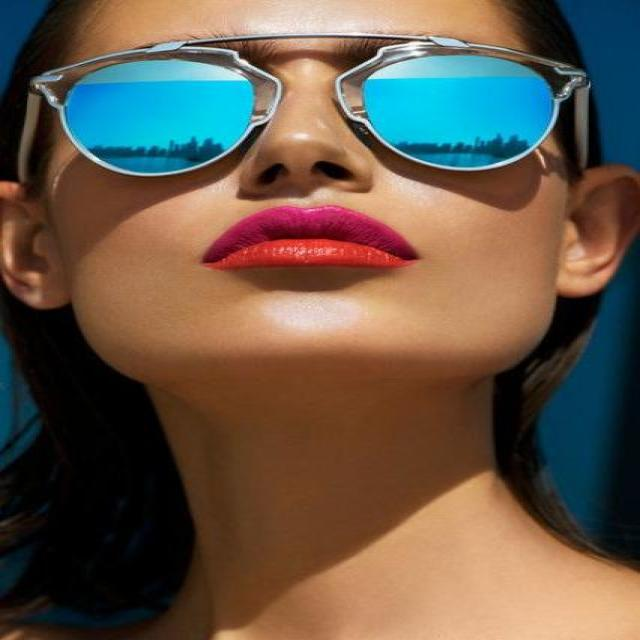glasses: (17, 34, 593, 178)
